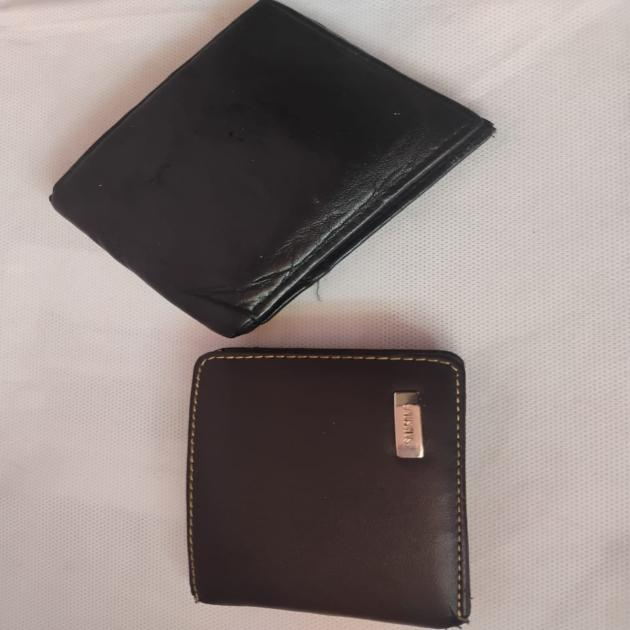wallet: (68, 31, 506, 288), (148, 350, 492, 621)
